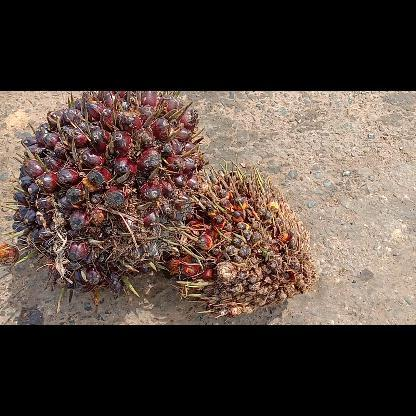Kurang masak: (0, 90, 203, 310)
TBS abnormal: (166, 162, 316, 317)
